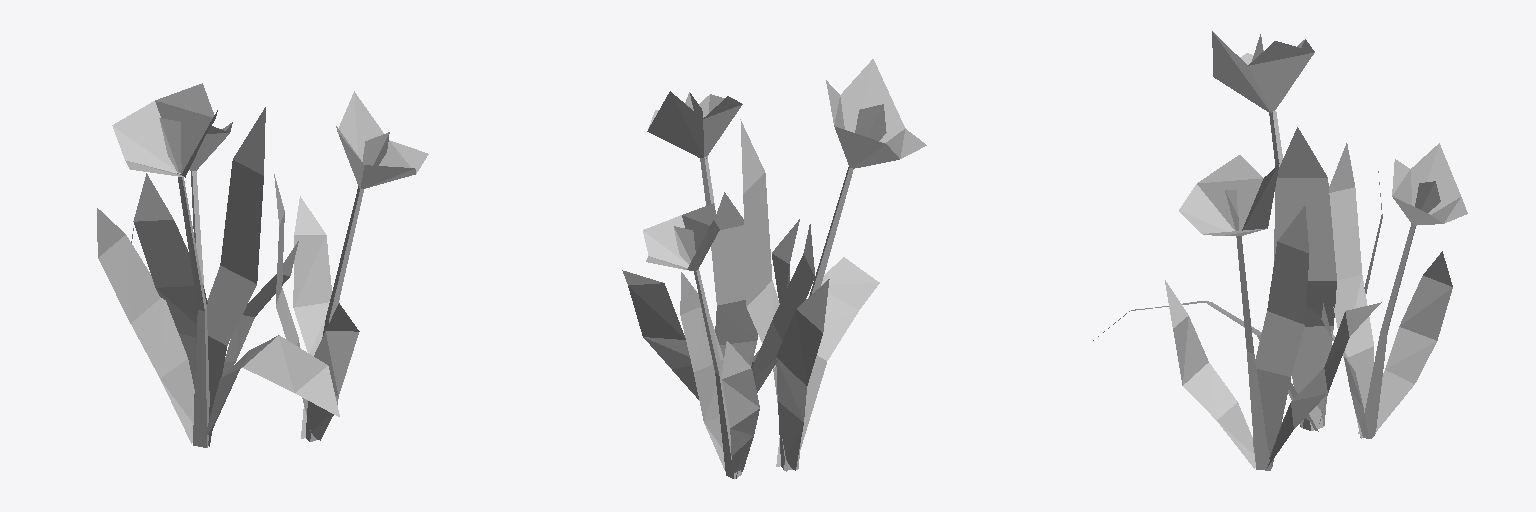
Rendered from sholazar_flowerb.obj.
3 renders of one model, left to right at view 1: azimuth 30°, elevation 25°; view 2: azimuth 150°, elevation 25°; view 3: azimuth 270°, elevation 25°, orthographic.
Parts seen in each view (by area): view 1: sholazar_flowerb; view 2: sholazar_flowerb; view 3: sholazar_flowerb.
Part boxes in pixels (x1,y1,x2,y2): sholazar_flowerb: (97, 83, 428, 447); sholazar_flowerb: (622, 59, 926, 478); sholazar_flowerb: (1093, 31, 1467, 470).
Bounding box in the file's own units: 1.95 × 2.48 × 2.23.